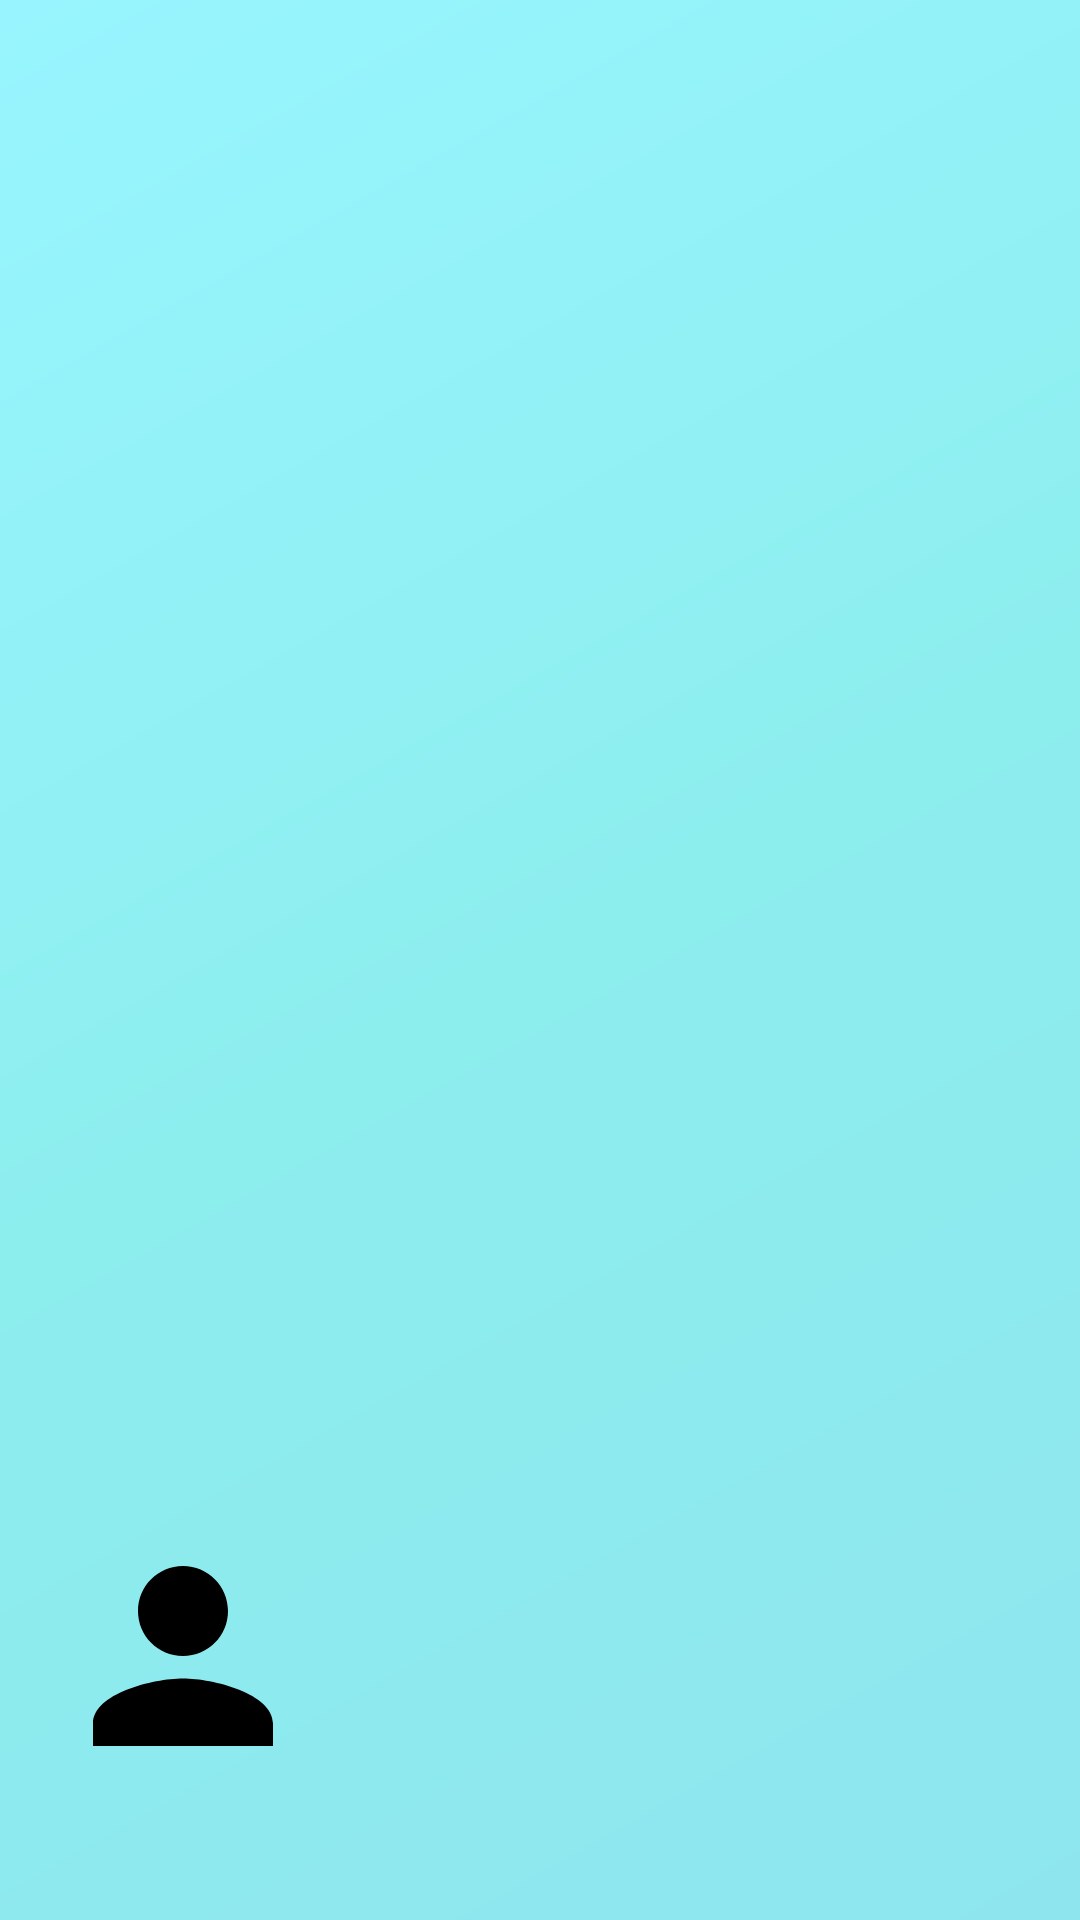

Where icons sit on this 1080x1920 app screen, as bbox(x1, y1, x2, y2):
person: bbox(93, 1566, 273, 1746)
